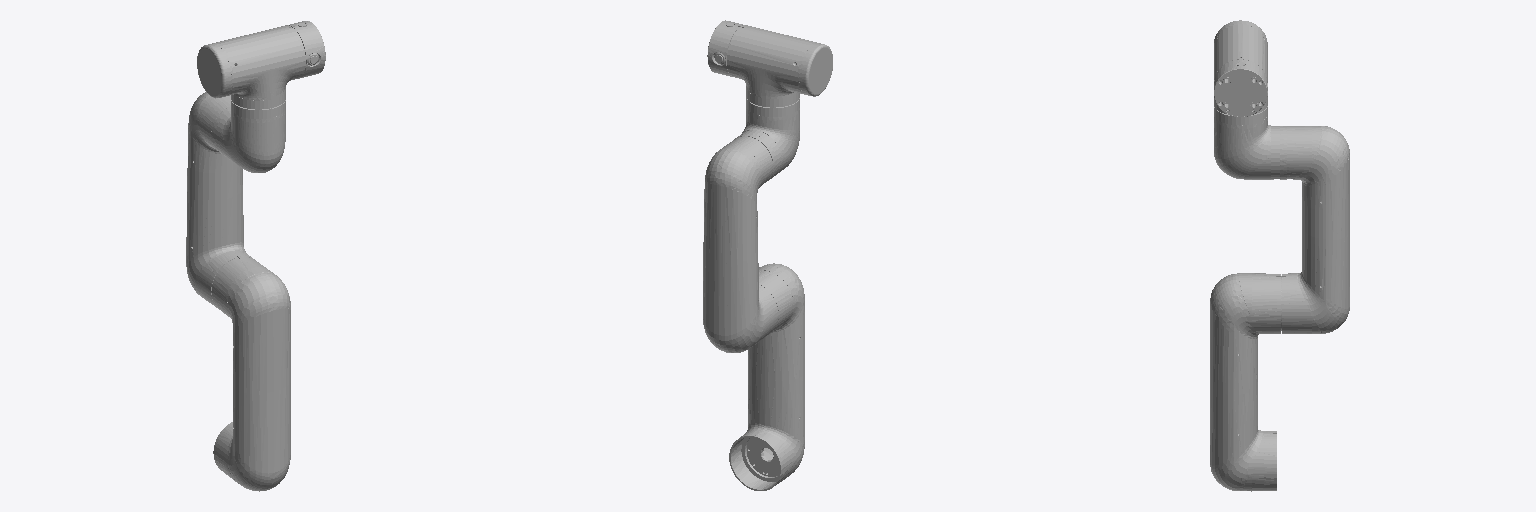
The robot description file, URDF, robot "mycobot_pro450":
<?xml version="1.0" encoding="utf-8"?>
<!-- This URDF was automatically created by SolidWorks to URDF Exporter! Originally created by Stephen Brawner (brawner@gmail.com) 
     Commit Version: 1.6.0-4-g7f85cfe  Build Version: 1.6.7995.38578
     For more information, please see http://wiki.ros.org/sw_urdf_exporter -->
<robot
  name="mycobot_pro450">
  <!-- 新增一个 root -->
  <!-- <link name="world"/>

  <joint name="world_to_base" type="fixed">
    <parent link="world"/>
    <child link="base"/>
  </joint> -->
  <link
    name="base">
    <inertial>
      <origin
        xyz="-0.01511 4.6971E-05 0.064112"
        rpy="0 0 0" />
      <mass
        value="2.0381" />
      <inertia
        ixx="0.003172"
        ixy="1.9234E-06"
        ixz="0.00023241"
        iyy="0.0028769"
        iyz="-6.4243E-07"
        izz="0.0033166" />
    </inertial>
    <visual>
      <origin
        xyz="0 0 0"
        rpy="0 0 0" />
      <geometry>
        <mesh
          filename="package://mycobot_description/meshes/base.STL" />
      </geometry>
      <material
        name="">
        <color
          rgba="0.75294 0.75294 0.75294 1" />
      </material>
    </visual>
    <collision>
      <origin
        xyz="0 0 0"
        rpy="0 0 0" />
      <geometry>
        <mesh
          filename="package://mycobot_description/meshes/base.STL" />
      </geometry>
    </collision>
  </link>
  <link
    name="Link1">
    <inertial>
      <origin
        xyz="0.00045184 -0.021339 0.033413"
        rpy="0 0 0" />
      <mass
        value="0.5442" />
      <inertia
        ixx="0.00033333"
        ixy="-2.1245E-07"
        ixz="7.4454E-07"
        iyy="0.00034669"
        iyz="1.4758E-05"
        izz="0.00032553" />
    </inertial>
    <visual>
      <origin
        xyz="0 0 0"
        rpy="0 0 0" />
      <geometry>
        <mesh
          filename="package://mycobot_description/meshes/Link1.STL" />
      </geometry>
      <material
        name="">
        <color
          rgba="0.75294 0.75294 0.75294 1" />
      </material>
    </visual>
    <collision>
      <origin
        xyz="0 0 0"
        rpy="0 0 0" />
      <geometry>
        <mesh
          filename="package://mycobot_description/meshes/Link1.STL" />
      </geometry>
    </collision>
  </link>
  <joint
    name="joint1"
    type="revolute">
    <origin
      xyz="-0.00093304 0 0.17372"
      rpy="0 0 0" />
    <parent
      link="base" />
    <child
      link="Link1" />
    <axis
      xyz="0 0 1" />
    <limit
      lower="-2.8274"
      upper="2.8274"
      effort="100000"
      velocity="3.7909" />
  </joint>
  <link
    name="Link2">
    <inertial>
      <origin
        xyz="-7.4849E-05 -0.0044366 0.11981"
        rpy="0 0 0" />
      <mass
        value="0.58911" />
      <inertia
        ixx="0.002115"
        ixy="1.9472E-08"
        ixz="6.1991E-07"
        iyy="0.0021879"
        iyz="-6.4296E-05"
        izz="0.00028878" />
    </inertial>
    <visual>
      <origin
        xyz="0 0 0"
        rpy="0 0 0" />
      <geometry>
        <mesh
          filename="package://mycobot_description/meshes/Link2.STL" />
      </geometry>
      <material
        name="">
        <color
          rgba="0.75294 0.75294 0.75294 1" />
      </material>
    </visual>
    <collision>
      <origin
        xyz="0 0 0"
        rpy="0 0 0" />
      <geometry>
        <mesh
          filename="package://mycobot_description/meshes/Link2.STL" />
      </geometry>
    </collision>
  </link>
  <joint
    name="joint2"
    type="revolute">
    <origin
      xyz="0.00017155 -0.072764 0.037522"
      rpy="0 0 0.00011694" />
    <parent
      link="Link1" />
    <child
      link="Link2" />
    <axis
      xyz="0 -1 0" />
    <limit
      lower="-2.1817"
      upper="2.1817"
      effort="100000"
      velocity="3.7909" />
  </joint>
  <link
    name="Link3">
    <inertial>
      <origin
        xyz="-8.6311E-05 0.01886 0.1256"
        rpy="0 0 0" />
      <mass
        value="0.68875" />
      <inertia
        ixx="0.0017378"
        ixy="1.4956E-07"
        ixz="1.5941E-07"
        iyy="0.0017847"
        iyz="-2.8449E-05"
        izz="0.00025808" />
    </inertial>
    <visual>
      <origin
        xyz="0 0 0"
        rpy="0 0 0" />
      <geometry>
        <mesh
          filename="package://mycobot_description/meshes/Link3.STL" />
      </geometry>
      <material
        name="">
        <color
          rgba="0.75294 0.75294 0.75294 1" />
      </material>
    </visual>
    <collision>
      <origin
        xyz="0 0 0"
        rpy="0 0 0" />
      <geometry>
        <mesh
          filename="package://mycobot_description/meshes/Link3.STL" />
      </geometry>
    </collision>
  </link>
  <joint
    name="joint3"
    type="revolute">
    <origin
      xyz="-0.00011952 0.0394 0.18008"
      rpy="0 0 0" />
    <parent
      link="Link2" />
    <child
      link="Link3" />
    <axis
      xyz="0 -1 0" />
    <limit
      lower="-2.687807"
      upper="2.687807"
      effort="100000"
      velocity="3.11" />
  </joint>
  <link
    name="Link4">
    <inertial>
      <origin
        xyz="5.5307E-06 -0.019977 0.024336"
        rpy="0 0 0" />
      <mass
        value="0.55433" />
      <inertia
        ixx="0.00024787"
        ixy="-5.8392E-07"
        ixz="3.4795E-07"
        iyy="0.00024423"
        iyz="1.5884E-05"
        izz="0.000191" />
    </inertial>
    <visual>
      <origin
        xyz="0 0 0"
        rpy="0 0 0" />
      <geometry>
        <mesh
          filename="package://mycobot_description/meshes/Link4.STL" />
      </geometry>
      <material
        name="">
        <color
          rgba="0.75294 0.75294 0.75294 1" />
      </material>
    </visual>
    <collision>
      <origin
        xyz="0 0 0"
        rpy="0 0 0" />
      <geometry>
        <mesh
          filename="package://mycobot_description/meshes/Link4.STL" />
      </geometry>
    </collision>
  </link>
  <joint
    name="joint4"
    type="revolute">
    <origin
      xyz="0 -0.027001 0.173"
      rpy="0 0 0" />
    <parent
      link="Link3" />
    <child
      link="Link4" />
    <axis
      xyz="0 -1 0" />
    <limit
      lower="-2.8274"
      upper="2.8274"
      effort="100000"
      velocity="3.11" />
  </joint>
  <link
    name="Link5">
    <inertial>
      <origin
        xyz="-0.0078291 0.00061969 0.024427"
        rpy="0 0 0" />
      <mass
        value="0.53025" />
      <inertia
        ixx="0.00018687"
        ixy="-2.0057E-07"
        ixz="2.3963E-06"
        iyy="0.0002227"
        iyz="1.1581E-07"
        izz="0.00022188" />
    </inertial>
    <visual>
      <origin
        xyz="0 0 0"
        rpy="0 0 0" />
      <geometry>
        <mesh
          filename="package://mycobot_description/meshes/Link5.STL" />
      </geometry>
      <material
        name="">
        <color
          rgba="0.75294 0.75294 0.75294 1" />
      </material>
    </visual>
    <collision>
      <origin
        xyz="0 0 0"
        rpy="0 0 0" />
      <geometry>
        <mesh
          filename="package://mycobot_description/meshes/Link5.STL" />
      </geometry>
    </collision>
  </link>
  <joint
    name="joint5"
    type="revolute">
    <origin
      xyz="-1.3818E-05 -0.025698 0.070501"
      rpy="0 0 -0.00011694" />
    <parent
      link="Link4" />
    <child
      link="Link5" />
    <axis
      xyz="0 0 1" />
    <limit
      lower="-2.8274"
      upper="2.8274"
      effort="100000"
      velocity="3.11" />
  </joint>
  <link
    name="Link6">
    <inertial>
      <origin
        xyz="0.018374 0.00055432 0.00087911"
        rpy="0 0 0" />
      <mass
        value="0.10905" />
      <inertia
        ixx="4.4575E-05"
        ixy="-4.9658E-09"
        ixz="1.0564E-07"
        iyy="2.7189E-05"
        iyz="3.4068E-09"
        izz="2.7819E-05" />
    </inertial>
    <visual>
      <origin
        xyz="0 0 0"
        rpy="0 0 0" />
      <geometry>
        <mesh
          filename="package://mycobot_description/meshes/Link6.STL" />
      </geometry>
      <material
        name="">
        <color
          rgba="0.75294 0.75294 0.75294 1" />
      </material>
    </visual>
    <collision>
      <origin
        xyz="0 0 0"
        rpy="0 0 0" />
      <geometry>
        <mesh
          filename="package://mycobot_description/meshes/Link6.STL" />
      </geometry>
    </collision>
  </link>
  <joint
    name="joint6"
    type="revolute">
    <origin
      xyz="0.031841 0.0001386 0.026584"
      rpy="0 0 0.00011694" />
    <parent
      link="Link5" />
    <child
      link="Link6" />
    <axis
      xyz="1 0 0" />
    <limit
      lower="-2.879793"
      upper="2.879793"
      effort="100000"
      velocity="3.11" />
  </joint>
</robot>

--- Render facts (derived) ---
Views: 3 orthographic renders of the robot side by side, from view 1: azimuth 30°, elevation 25°; view 2: azimuth 150°, elevation 25°; view 3: azimuth 270°, elevation 25°.
Robot: mycobot_pro450 — 7 links, 6 joints (6 revolute); root link base; default pose: all joints at 0.
Visible links, largest first — view 1: Link2, Link3, Link5, Link4, Link6; view 2: Link3, Link2, Link5, Link4, Link6; view 3: Link2, Link3, Link4, Link6, Link5.
Link boxes in pixels (bbox=[...]): Link2: bbox=[211, 257, 290, 491]; Link3: bbox=[186, 92, 254, 307]; Link5: bbox=[197, 25, 305, 109]; Link4: bbox=[211, 100, 285, 172]; Link6: bbox=[289, 21, 325, 78]; Link3: bbox=[703, 136, 778, 352]; Link2: bbox=[729, 263, 804, 490]; Link5: bbox=[727, 25, 832, 107]; Link4: bbox=[735, 97, 799, 180]; Link6: bbox=[707, 20, 742, 76]; Link2: bbox=[1210, 273, 1281, 491]; Link3: bbox=[1282, 126, 1349, 333]; Link4: bbox=[1214, 106, 1286, 179]; Link6: bbox=[1214, 59, 1267, 116]; Link5: bbox=[1214, 20, 1267, 113].
Bounding box of the posed robot: 0.1211 × 0.1455 × 0.5102 m (x, y, z).
Meshes: 7 distinct files referenced, 5 mesh visuals loaded (5 binary STL); not drawn: 2 (reference not matched to a file when rendering).
